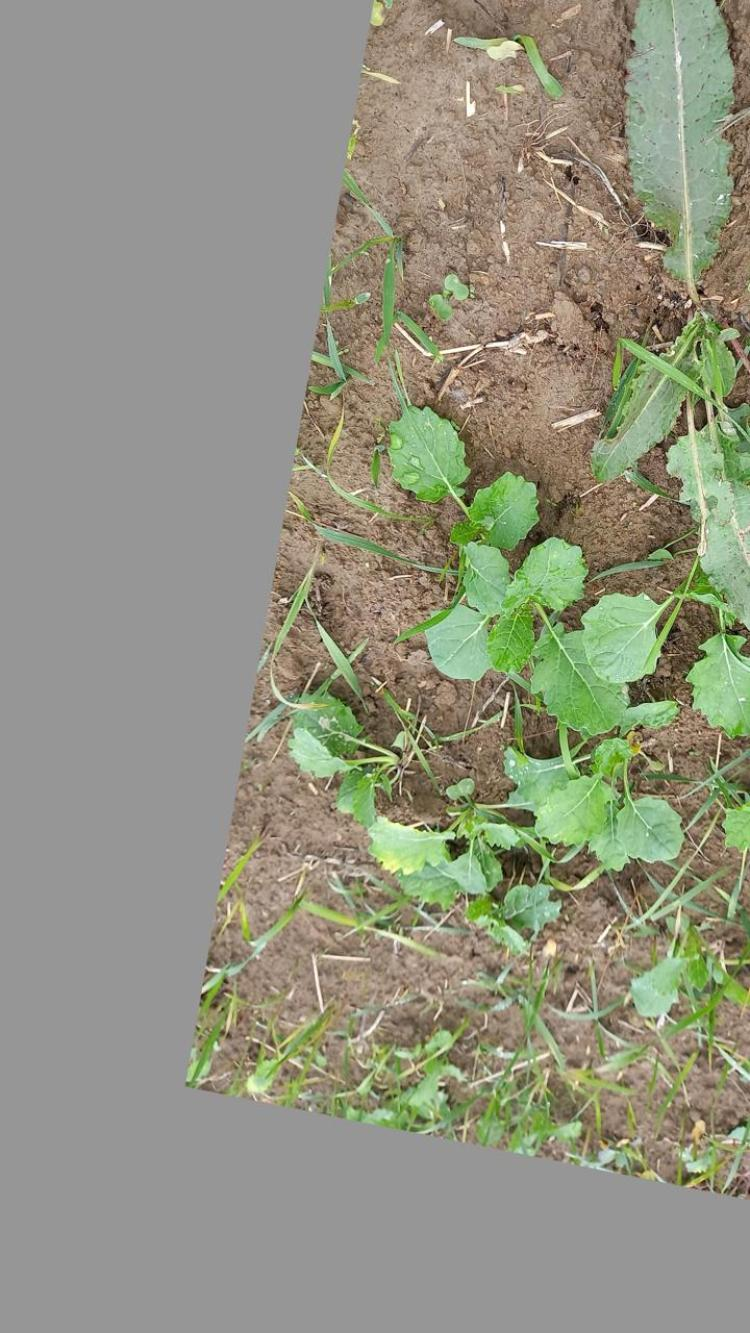zhavel: (596, 5, 750, 637)
